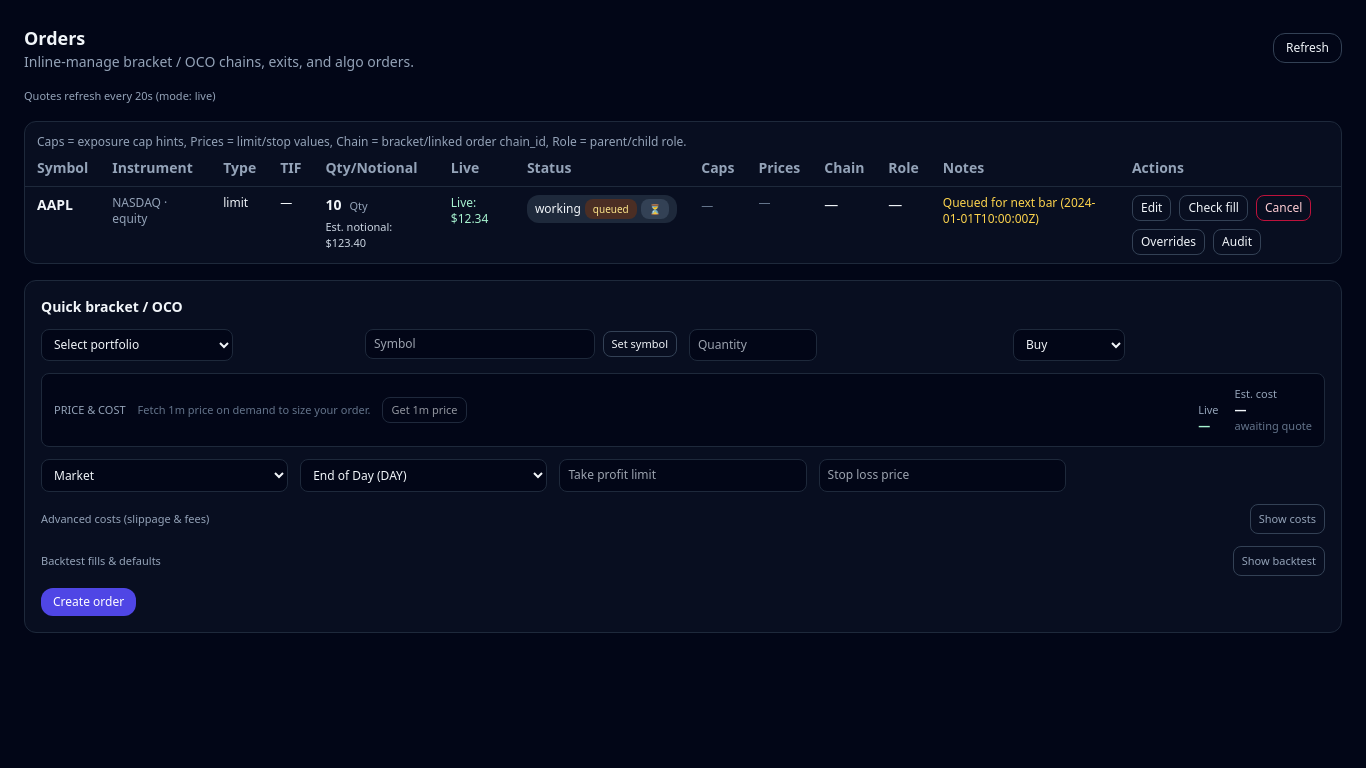
Test: Orders page › shows queued/pending chips and opens detail modal with timeline
The image size is (1366, 768).
Expected: the text "Live: $12.34" is shown, [439, 186, 515, 262]
Expected: the text "Est. notional: $123.40" is shown, [326, 218, 392, 250]
Step 1. Click the text "AAPL" → (55, 204), box [25, 186, 100, 262]
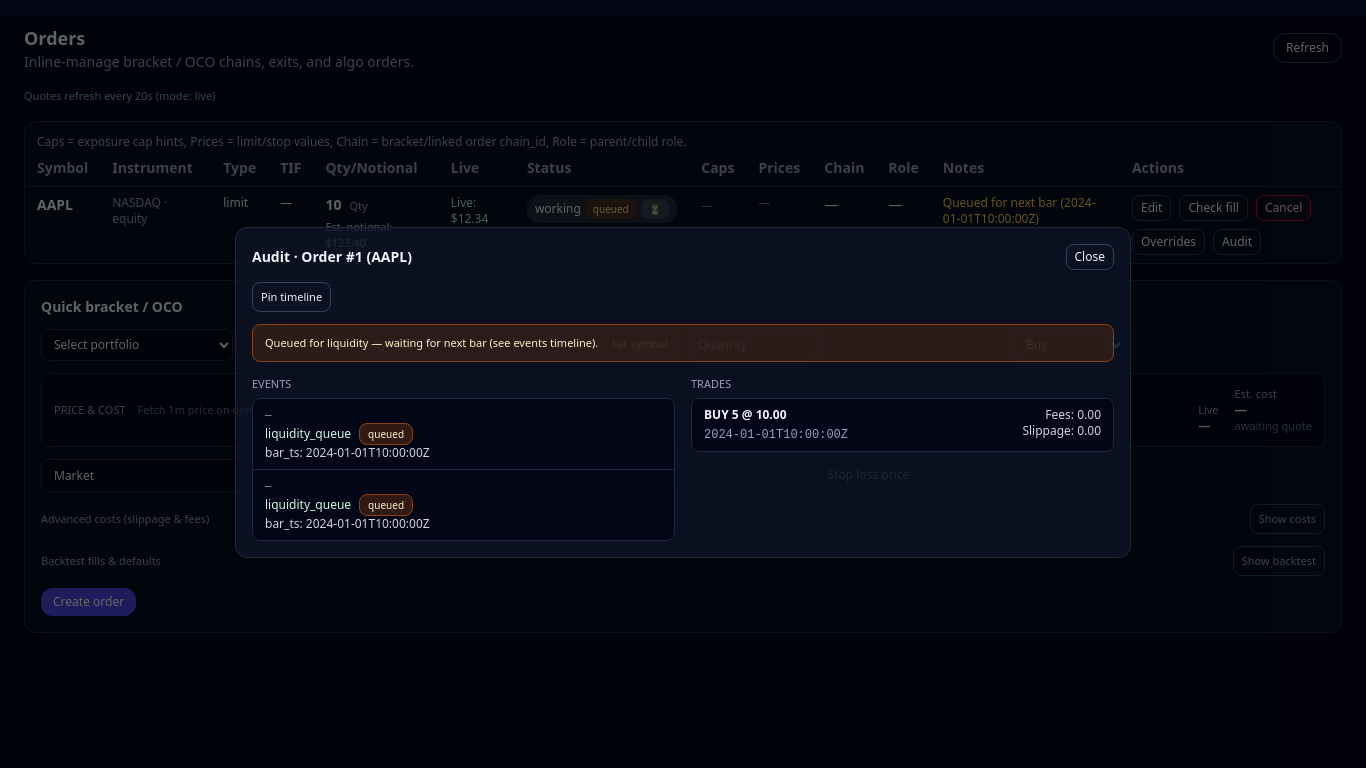
Expected: the text "Audit · Order #1 (AAPL)" is shown, [252, 246, 412, 266]
Expected: the text "events" is shown, [265, 334, 598, 350]
